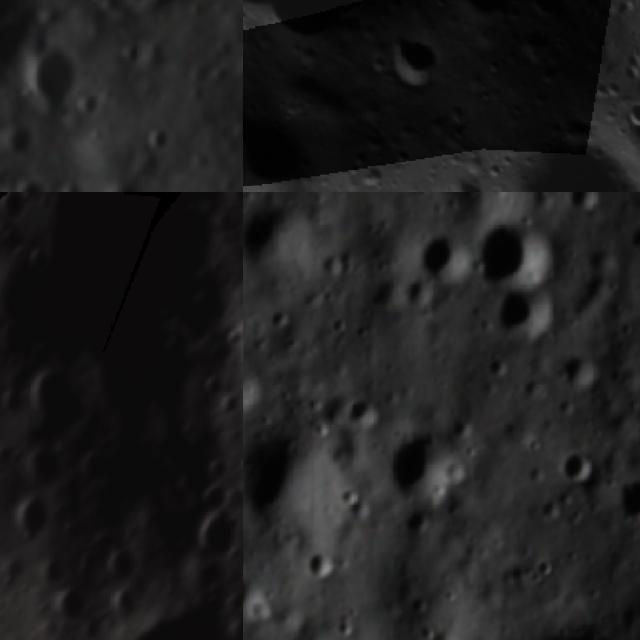crater: (0, 0, 80, 145), (500, 110, 640, 192), (23, 0, 243, 49), (243, 431, 329, 548), (243, 86, 328, 192), (7, 28, 98, 120), (368, 18, 458, 107), (385, 424, 474, 510), (470, 213, 560, 291), (243, 197, 314, 286), (491, 283, 565, 341), (183, 494, 243, 565), (28, 365, 90, 432), (416, 228, 471, 290), (555, 349, 610, 400), (133, 110, 185, 163), (243, 569, 286, 628), (508, 18, 556, 68), (0, 114, 45, 167), (556, 440, 600, 494), (25, 443, 73, 489), (44, 582, 94, 626), (17, 496, 58, 547), (68, 82, 113, 128), (343, 390, 385, 436), (109, 31, 151, 74), (104, 540, 143, 584), (304, 542, 341, 584), (612, 472, 640, 524), (0, 219, 35, 260), (2, 166, 56, 192), (94, 168, 152, 192), (110, 584, 148, 620), (243, 358, 267, 415), (613, 92, 640, 141), (435, 192, 517, 208), (196, 482, 234, 516), (0, 192, 34, 227), (565, 192, 609, 216), (0, 384, 26, 421), (51, 170, 92, 192), (219, 390, 243, 421), (202, 375, 230, 400), (629, 219, 640, 255)
